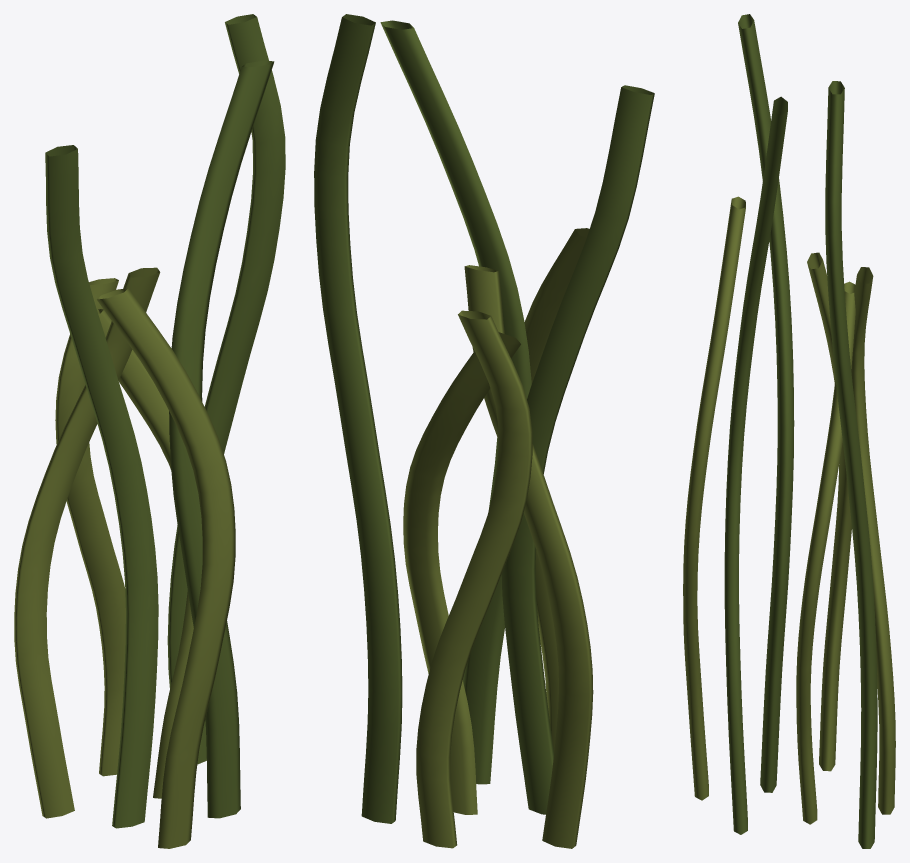
File: kelp.glb
3 renders of one model, left to right at view 1: azimuth 30°, elevation 25°; view 2: azimuth 150°, elevation 25°; view 3: azimuth 270°, elevation 25°, orthographic. The views are drawn at different scales.
Visible parts, largest first — view 1: KelpStrandAssembly (×2); view 2: KelpStrandAssembly (×2); view 3: KelpStrandAssembly (×2).
Boxes of the visible parts, x1=… form: KelpStrandAssembly (×2): x1=14, y1=14, x2=285, y2=848; KelpStrandAssembly (×2): x1=314, y1=14, x2=654, y2=848; KelpStrandAssembly (×2): x1=683, y1=14, x2=895, y2=848.
Size of the model in its own units: 1.83 by 4.66 by 1.16.
